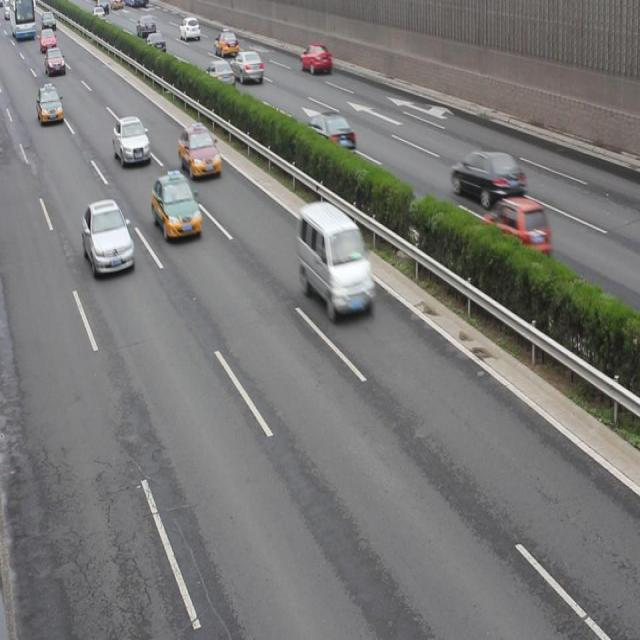car: (450, 148, 524, 205), (482, 198, 551, 259), (81, 202, 136, 278), (152, 173, 201, 241), (179, 122, 221, 180), (304, 112, 356, 156), (112, 115, 151, 168), (230, 50, 263, 85), (299, 44, 330, 76), (38, 86, 64, 124), (205, 60, 234, 88), (214, 29, 239, 58), (46, 48, 66, 75), (179, 17, 201, 40), (144, 32, 166, 55), (137, 17, 155, 39)
truck: (297, 201, 374, 319)
